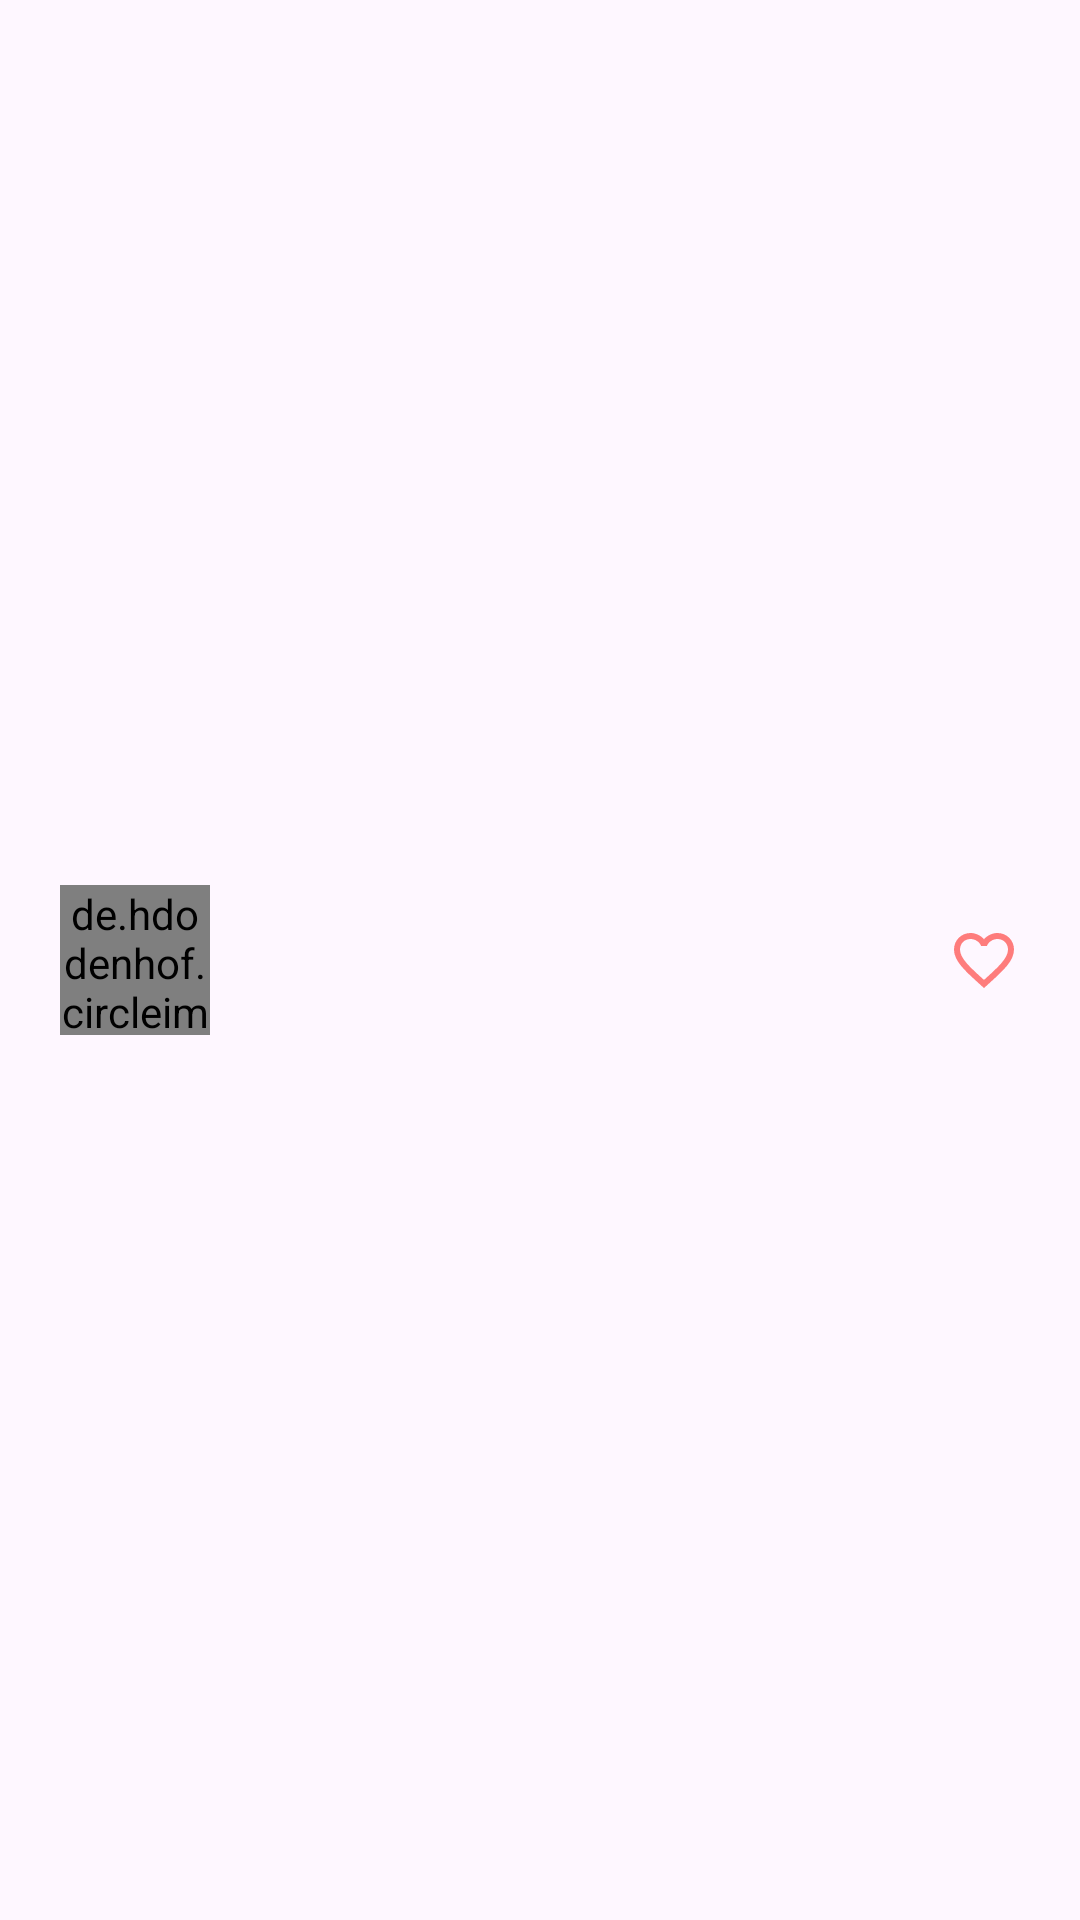

Point at icon controls on the screen. Image size 1080*1920, points as (x=x, y=y).
favorite: (x=984, y=960)
